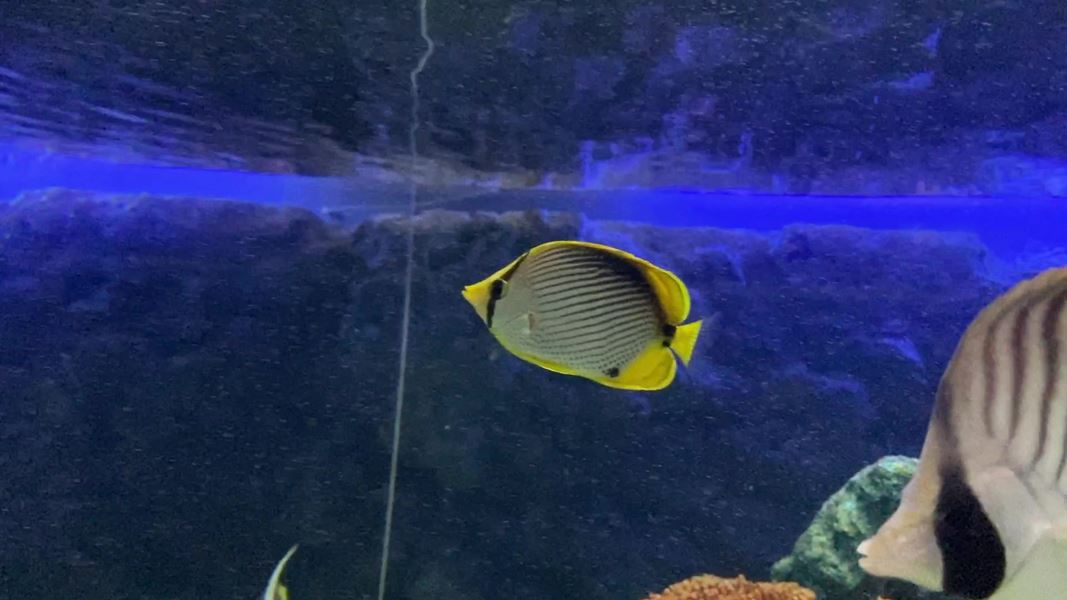Black-backed butterflyfish: (454, 231, 729, 406)
